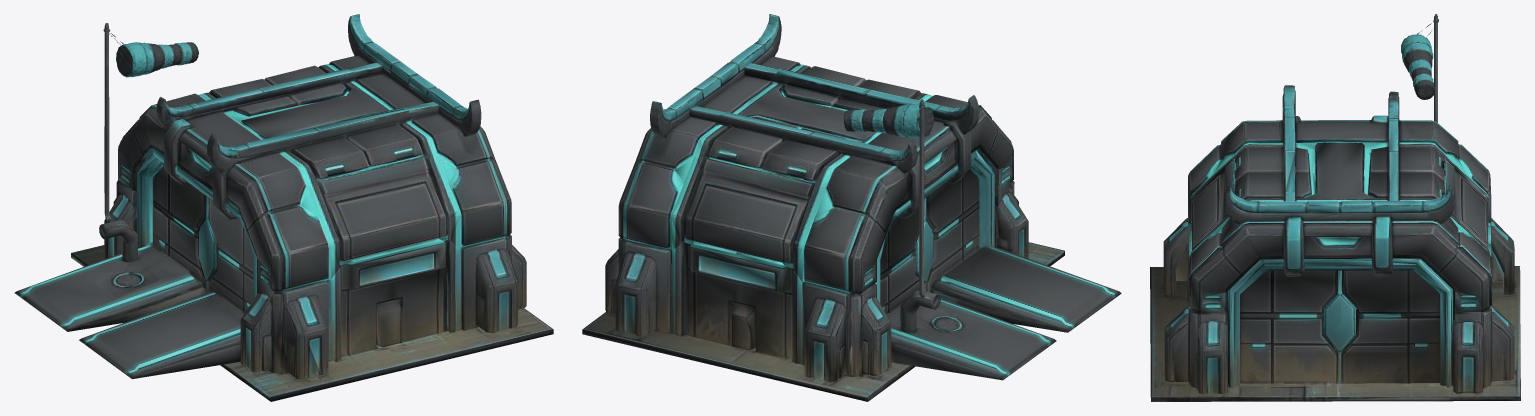
File: mvd_airfield.glb
3 views of the same model, side by side, from view 1: azimuth 30°, elevation 25°; view 2: azimuth 150°, elevation 25°; view 3: azimuth 270°, elevation 25° (orthographic). The views are drawn at different scales.
Parts seen in each view (by area): view 1: Body, Trim; view 2: Body, Trim; view 3: Body, Trim.
Boxes of the visible parts, x1,y1,x2,y2 form: Body: [14, 14, 553, 401]; Trim: [33, 15, 507, 373]; Body: [582, 14, 1121, 401]; Trim: [624, 14, 1054, 366]; Body: [1150, 14, 1520, 401]; Trim: [1165, 30, 1512, 354].
Bounding box in the file's own units: 17.28 × 11.73 × 15.59.
Materials: 2 (2 with a texture image).
